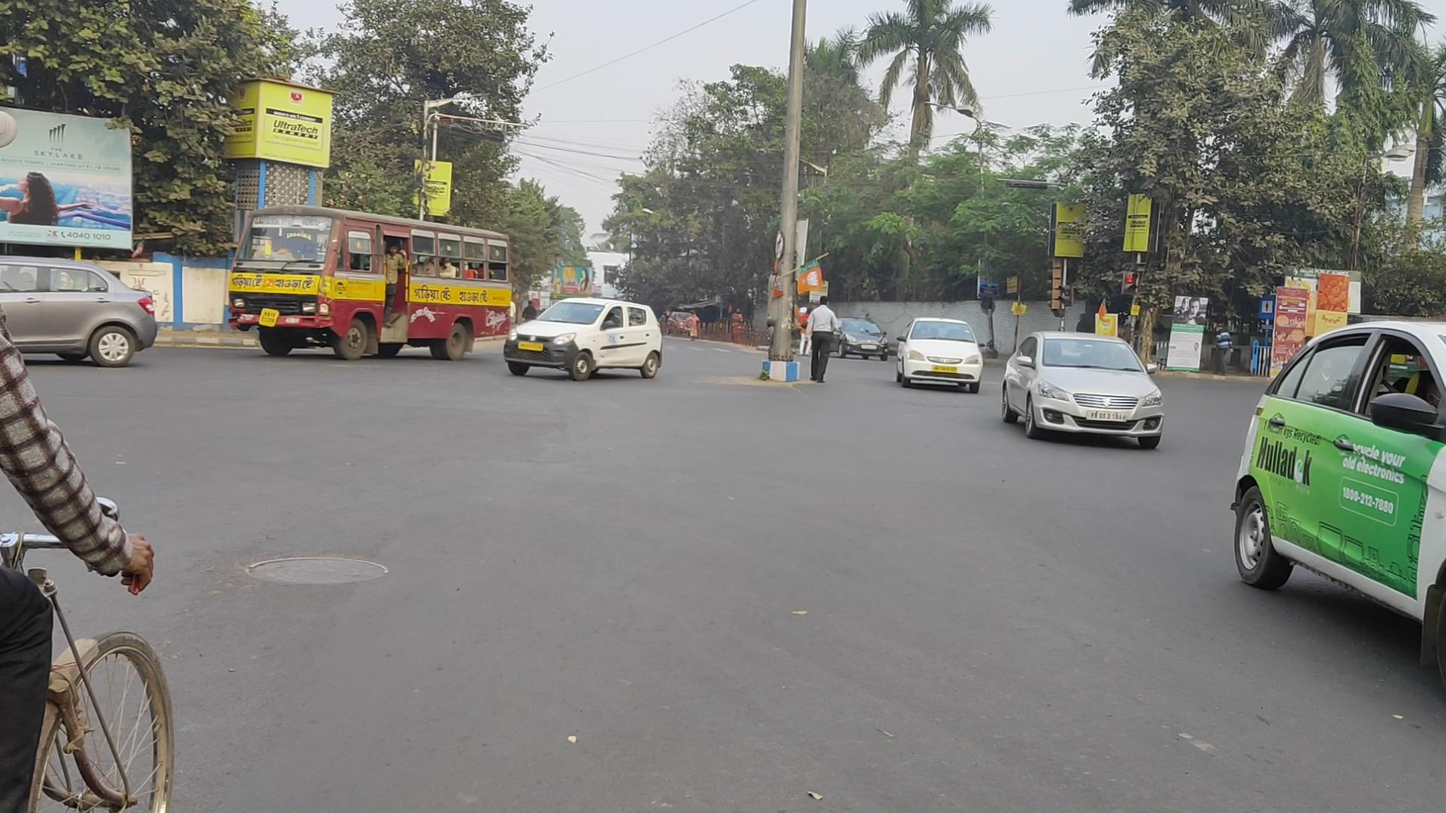Bus: (227, 206, 511, 362)
car: (1230, 321, 1446, 693), (1002, 331, 1164, 449), (1, 254, 158, 368), (504, 297, 663, 382), (896, 318, 986, 394), (828, 315, 889, 362)
